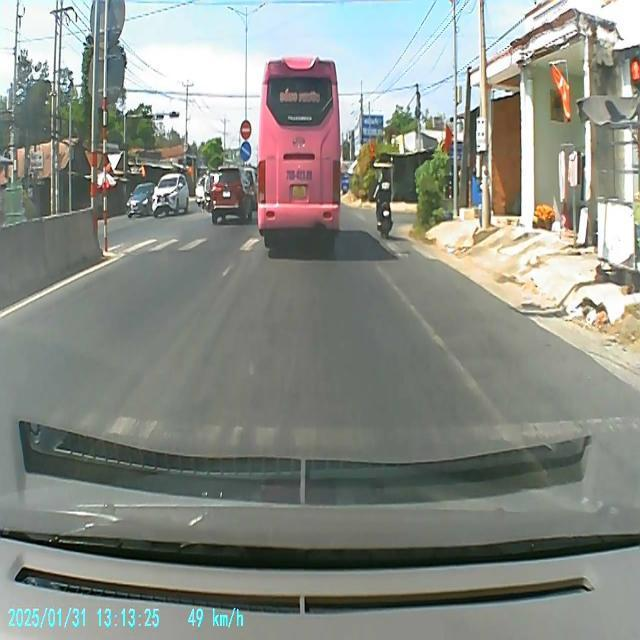102-cam-di-nguoc-chieu: (239, 118, 251, 140)
302a-huong-phai-di-vong-chuong-ngai-vat-1: (240, 141, 252, 163)
